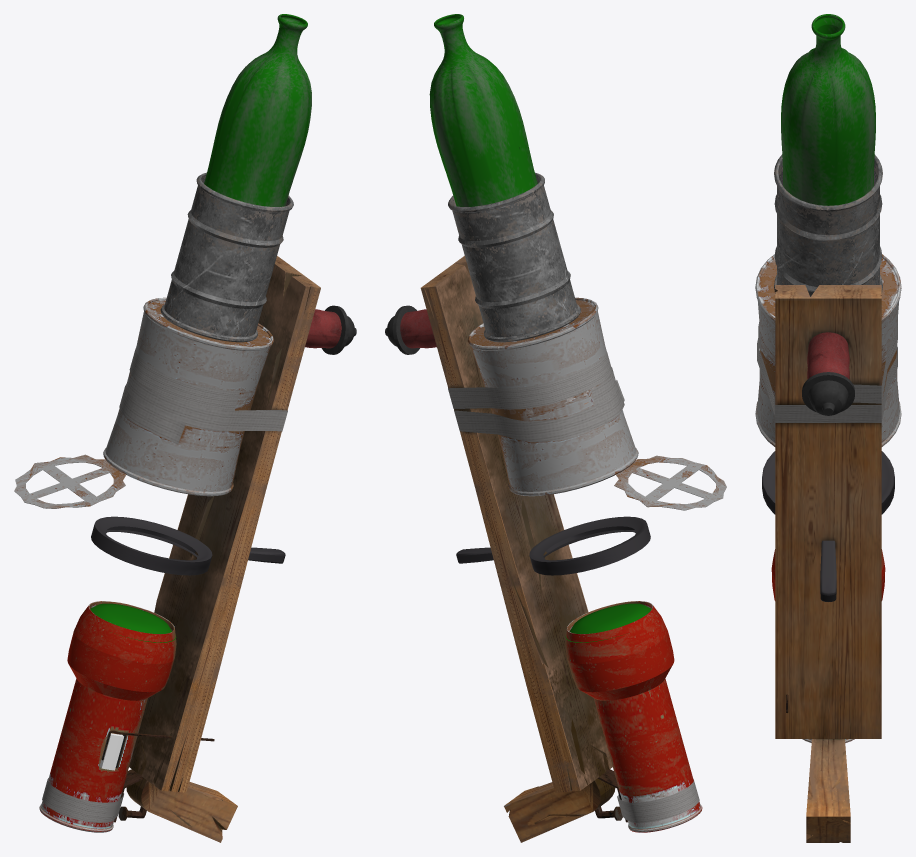
File: SCAMPP.obj
The picture shows the model from 3 angles, left to right: view 1: azimuth 30°, elevation 25°; view 2: azimuth 150°, elevation 25°; view 3: azimuth 270°, elevation 25°; orthographic projection. The views are drawn at different scales.
Parts seen in each view (by area): view 1: model_0, model_1, model_2; view 2: model_0, model_1, model_2; view 3: model_0, model_1.
Boxes of the visible parts, x1=… form: model_0: x1=14, y1=172, x2=356, y2=842; model_1: x1=204, y1=14, x2=311, y2=206; model_2: x1=90, y1=603, x2=176, y2=642; model_0: x1=385, y1=172, x2=726, y2=842; model_1: x1=429, y1=14, x2=537, y2=206; model_2: x1=565, y1=603, x2=651, y2=642; model_0: x1=755, y1=154, x2=901, y2=842; model_1: x1=781, y1=14, x2=875, y2=205.
Size of the model in its own units: 0.9503 by 2.17 by 0.3326.
